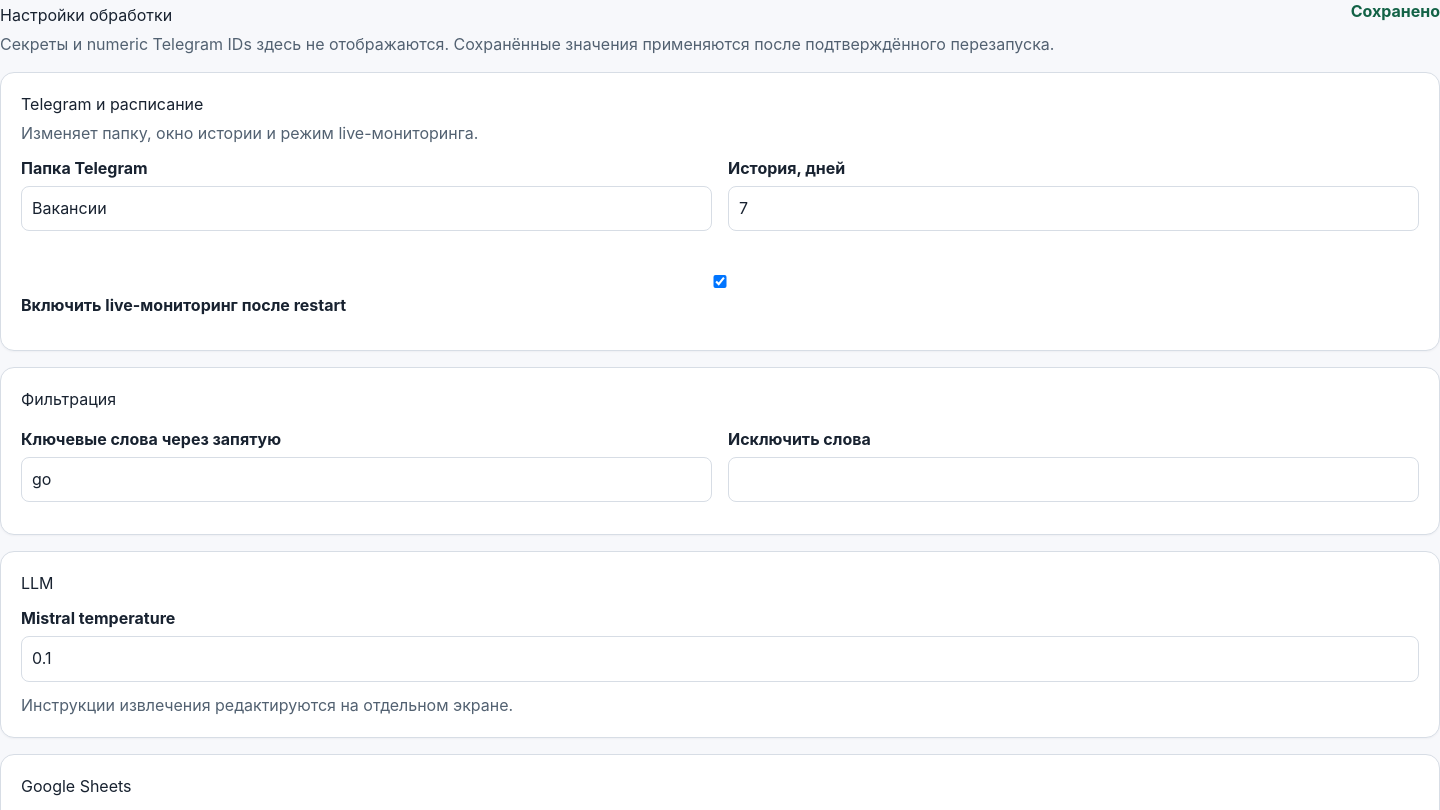
it: SettingsForm › shows validation error and unsaved state for empty keywords
Clear the field labelled "Ключевые слова через запятую" at (366, 480), box [21, 457, 712, 502]
(page scrolled)
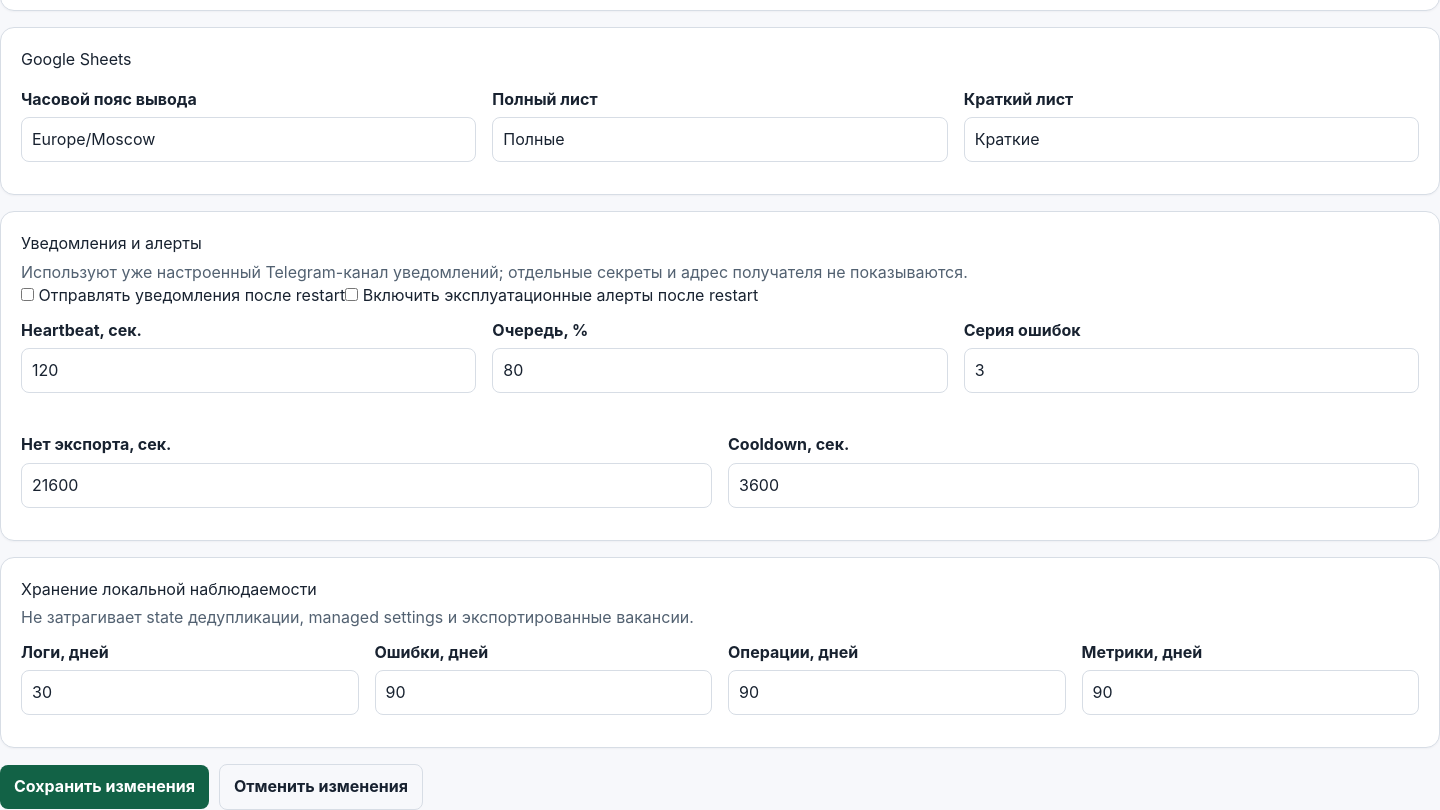
Click the button "Сохранить изменения" at (104, 787), box [0, 765, 209, 809]
(page scrolled)
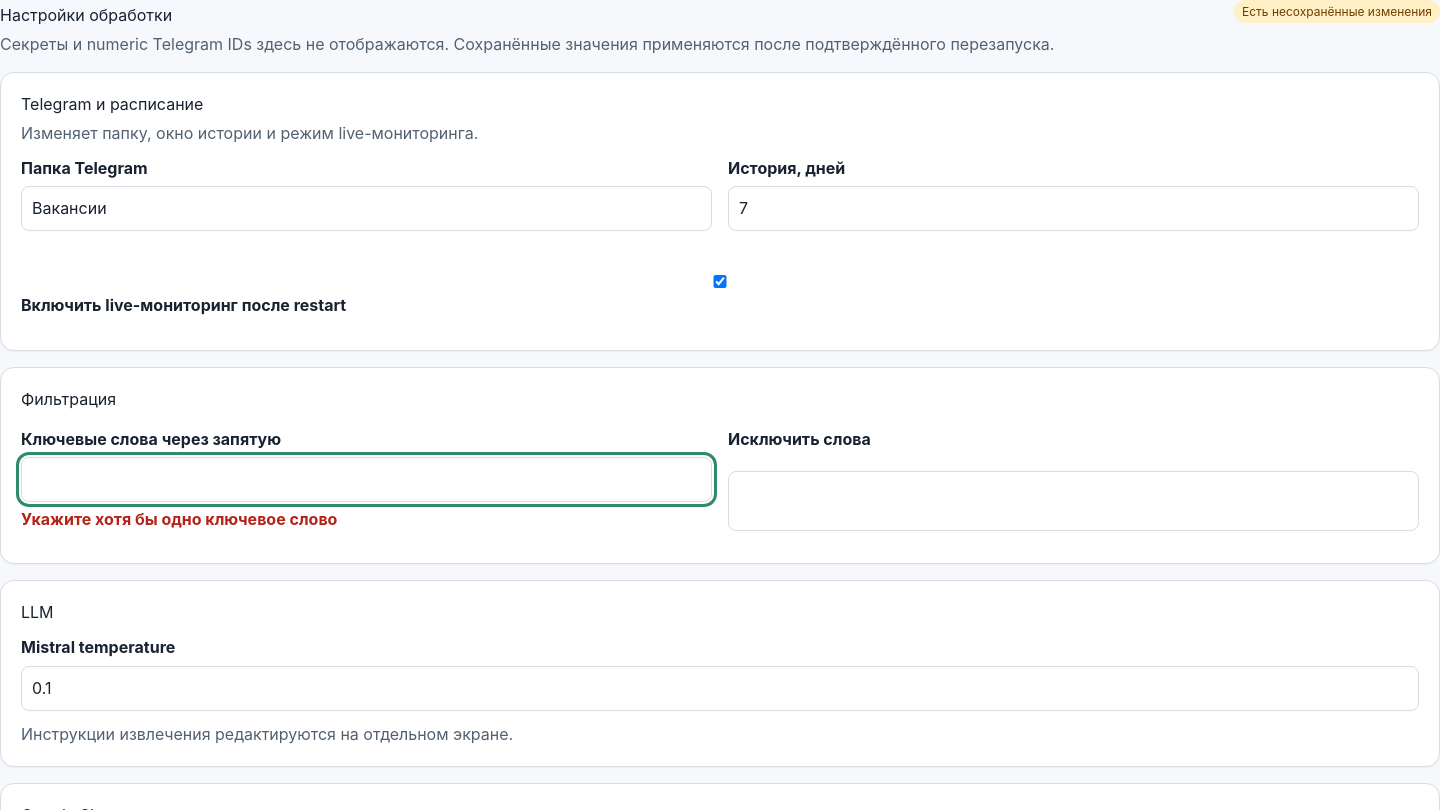
Check: the text "Есть несохранённые изменения" is shown, box [1234, 0, 1439, 23]
Check: the text "Укажите хотя бы одно ключевое слово" is shown, box [21, 509, 337, 529]
